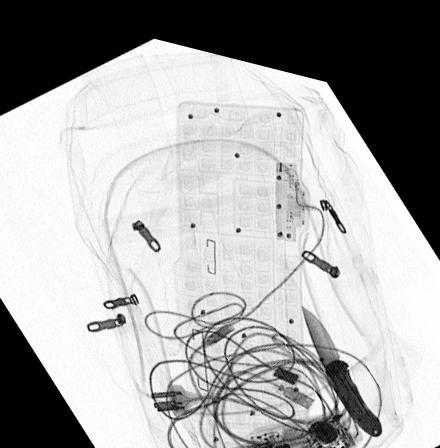Knife: (300, 288, 382, 417)
